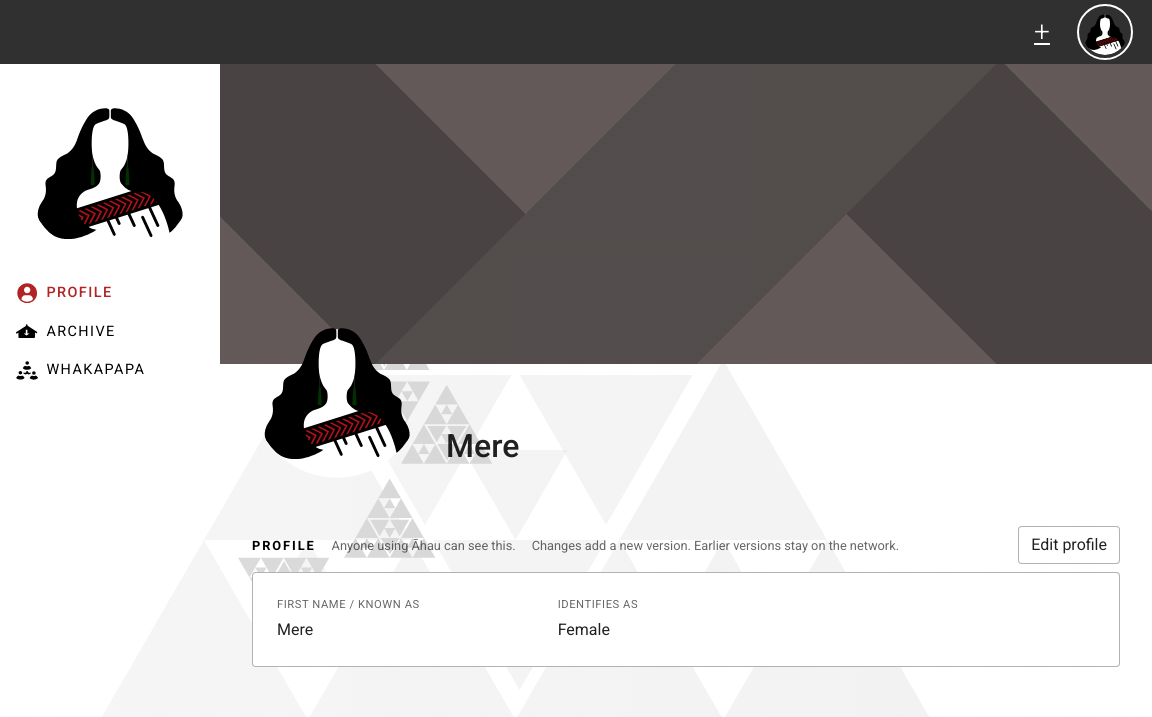
Test: shell: side nav › moving from profile to Whakapapa changes the address and the current item
The image size is (1152, 717).
Click the link "Whakapapa".
click(81, 370)  # box [16, 359, 145, 381]
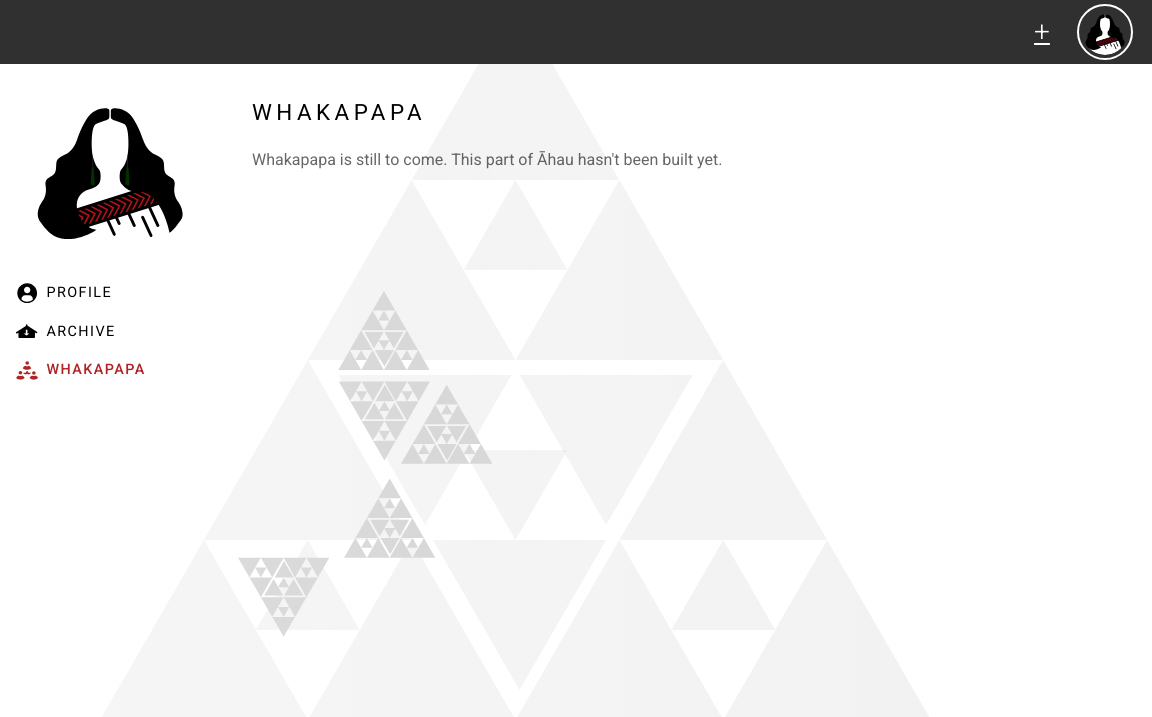
Now the heading reads "Whakapapa", box [252, 99, 426, 125]
